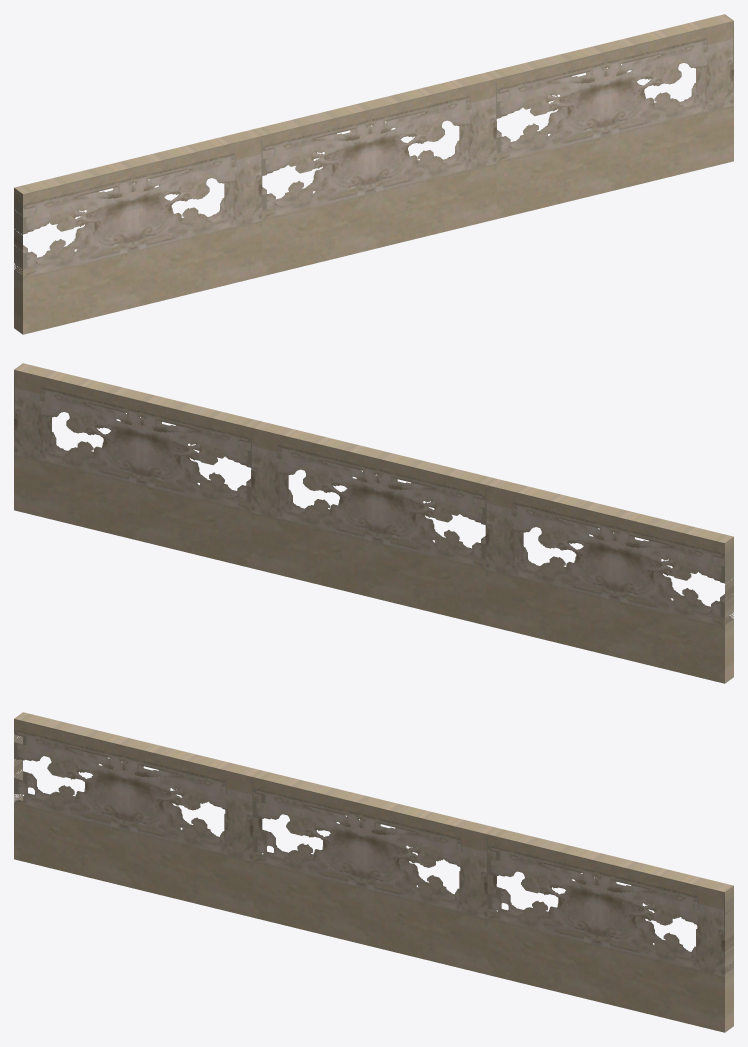
File: thm_nboo_imprv_pillar_wall_ornate_large_s01_l2.fbx
3 renders of one model, top to bottom at view 1: azimuth 30°, elevation 25°; view 2: azimuth 150°, elevation 25°; view 3: azimuth 330°, elevation 25°, orthographic.
Visible parts, largest first — view 1: mesh_node; view 2: mesh_node; view 3: mesh_node.
Boxes of the visible parts, x1=… form: mesh_node: x1=14, y1=14, x2=733, y2=334; mesh_node: x1=14, y1=363, x2=733, y2=683; mesh_node: x1=14, y1=712, x2=733, y2=1032.
Size of the model in its own units: 8.13 by 1.54 by 0.1791.
